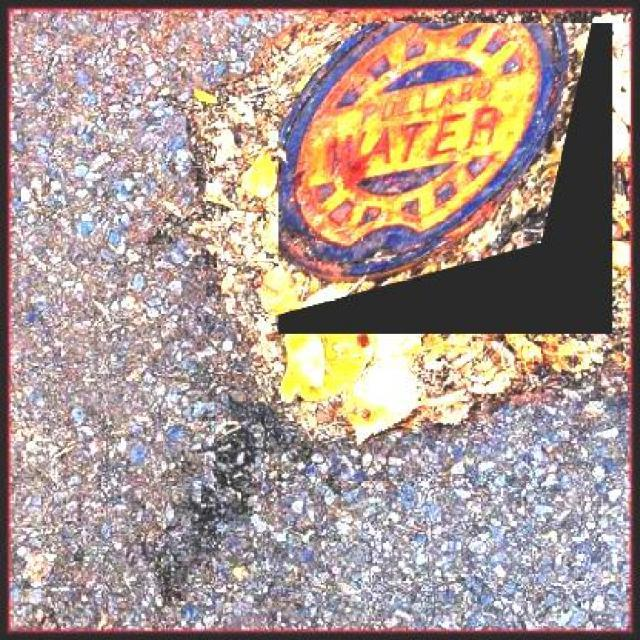Manhole: (278, 23, 612, 334), (135, 404, 310, 604)
